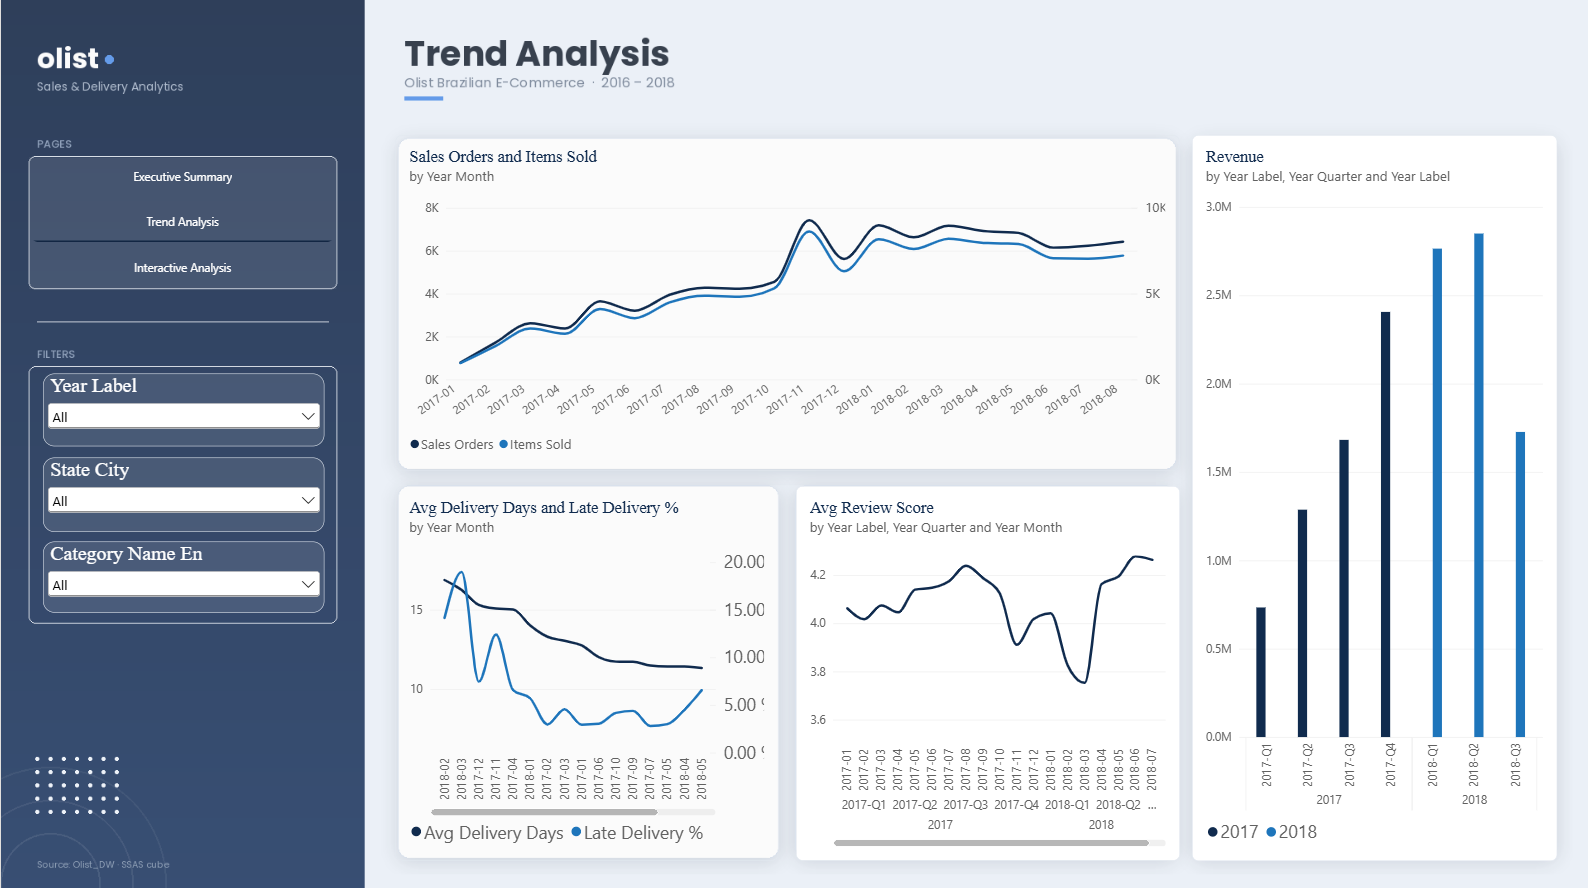

Layout of this report page (visuals, bound fields, positions):
{"tool":"powerbi","page":{"name":"Trend Analysis","canvas":[1920,1080],"ordinal":1},"visuals":[{"type":"pageNavigator","box":[35,190,370.8,158.3],"z":0},{"type":"slicer","fields":{"Values":["Customer Location.Hierarchy.State City"]},"box":[50,552,340,90],"z":1000},{"type":"slicer","fields":{"Values":["Product.Hierarchy.Category Name En"]},"box":[50,654,340,86],"z":2000},{"type":"slicer","fields":{"Values":["Date.Hierarchy.Year Label"]},"box":[50,452,340,88],"z":3000},{"type":"lineChart","fields":{"Category":["Date.Hierarchy.Year Month"],"Y":["Measures.Avg Delivery Days"],"Y2":["Fact Order Fulfilment.Late Delivery %"]},"box":[477.1,587.1,462.9,452.9],"z":4000},{"type":"lineChart","fields":{"Category":["Date.Hierarchy.Year Label","Date.Hierarchy.Year Quarter","Date.Hierarchy.Year Month"],"Y":["Fact Order Fulfilment.Sales Orders"],"Y2":["Fact Sales.Items Sold"]},"box":[477.1,162.9,947.1,405.7],"z":5000},{"type":"clusteredColumnChart","fields":{"Category":["Date.Hierarchy.Year Label","Date.Hierarchy.Year Quarter"],"Series":["Date.Hierarchy.Year Label"],"Y":["Fact Sales.Revenue"]},"box":[1440,162.9,441.4,877.1],"z":6000},{"type":"lineChart","fields":{"Category":["Date.Hierarchy.Year Label","Date.Hierarchy.Year Quarter","Date.Hierarchy.Year Month"],"Y":["Measures.Avg Review Score"]},"box":[960,587.1,464.3,452.9],"z":7000}]}

Visuals, with their boxes on the page's 1920x1080 design canvas (x1, y1, x2, y2). These are canvas units, not pixel positions in the 1588x888 screenshot, which may show the page scaled, cropped or inside an application window:
pageNavigator: pyautogui.locateOnScreen(35, 190, 406, 348)
slicer - Customer Location.Hierarchy.State City: pyautogui.locateOnScreen(50, 552, 390, 642)
slicer - Product.Hierarchy.Category Name En: pyautogui.locateOnScreen(50, 654, 390, 740)
slicer - Date.Hierarchy.Year Label: pyautogui.locateOnScreen(50, 452, 390, 540)
lineChart - Date.Hierarchy.Year Month x Measures.Avg Delivery Days: pyautogui.locateOnScreen(477, 587, 940, 1040)
lineChart - Date.Hierarchy.Year Label x Date.Hierarchy.Year Quarter: pyautogui.locateOnScreen(477, 163, 1424, 569)
clusteredColumnChart - Date.Hierarchy.Year Label x Date.Hierarchy.Year Quarter: pyautogui.locateOnScreen(1440, 163, 1881, 1040)
lineChart - Date.Hierarchy.Year Label x Date.Hierarchy.Year Quarter: pyautogui.locateOnScreen(960, 587, 1424, 1040)
